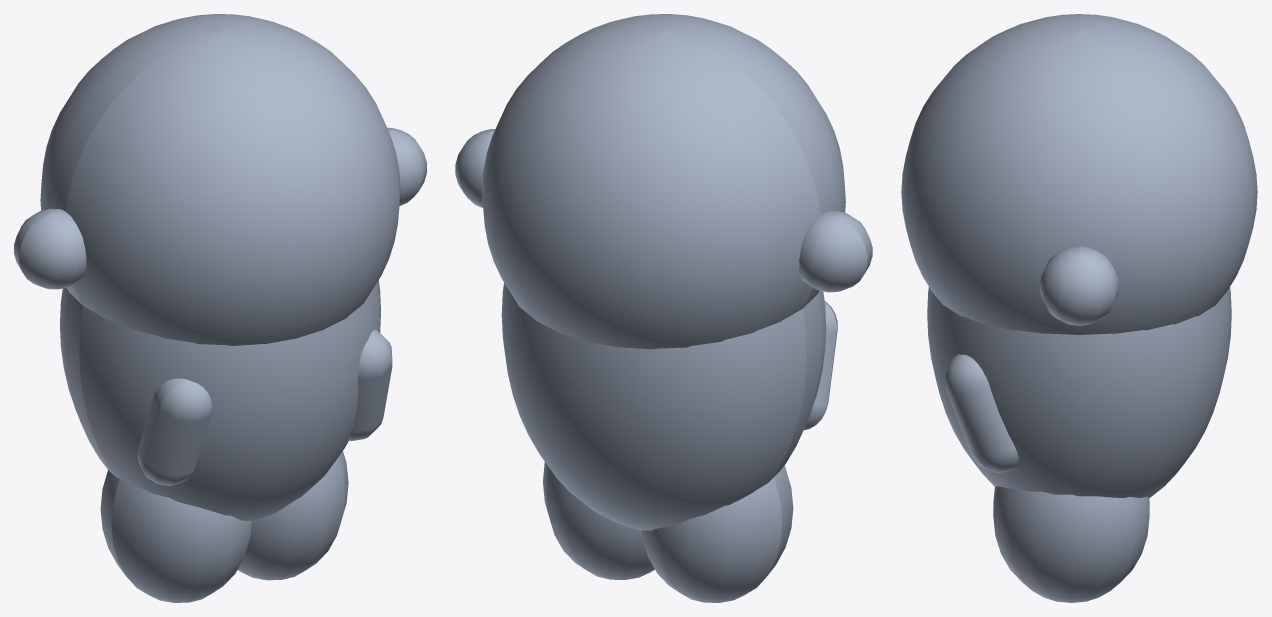
The model's file is monkey_volume.glb.
The picture shows the model from 3 angles, left to right: view 1: azimuth 30°, elevation 25°; view 2: azimuth 150°, elevation 25°; view 3: azimuth 270°, elevation 25°; orthographic projection. The views are drawn at different scales.
Visible parts, largest first — view 1: monkey_volume; view 2: monkey_volume; view 3: monkey_volume.
Boxes of the visible parts, <box> form: monkey_volume: <box>14,14,426,602</box>; monkey_volume: <box>455,14,872,602</box>; monkey_volume: <box>901,14,1257,602</box>.
Bounding box in the file's own units: 1.1 × 1.44 × 0.8529.
